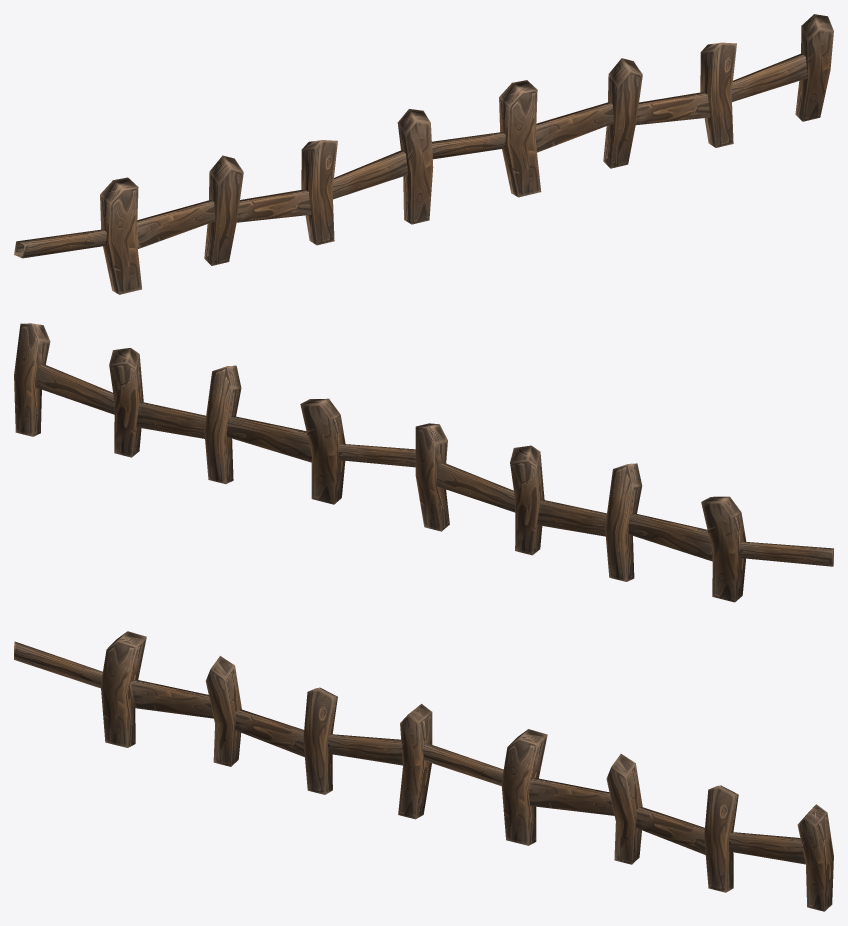
File: fenceWoodLongA.fbx
3 renders of one model, top to bottom at view 1: azimuth 30°, elevation 25°; view 2: azimuth 150°, elevation 25°; view 3: azimuth 330°, elevation 25°, orthographic.
Visible parts, largest first — view 1: fenceWoodLongA; view 2: fenceWoodLongA; view 3: fenceWoodLongA.
Boxes of the visible parts, x1,y1,x2,y2 form: fenceWoodLongA: (14,14,833,294); fenceWoodLongA: (14,323,833,602); fenceWoodLongA: (14,631,833,911).
Bounding box in the file's own units: 1074 × 140 × 46.28.
